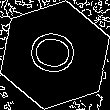O_E: (25, 29, 85, 81)
